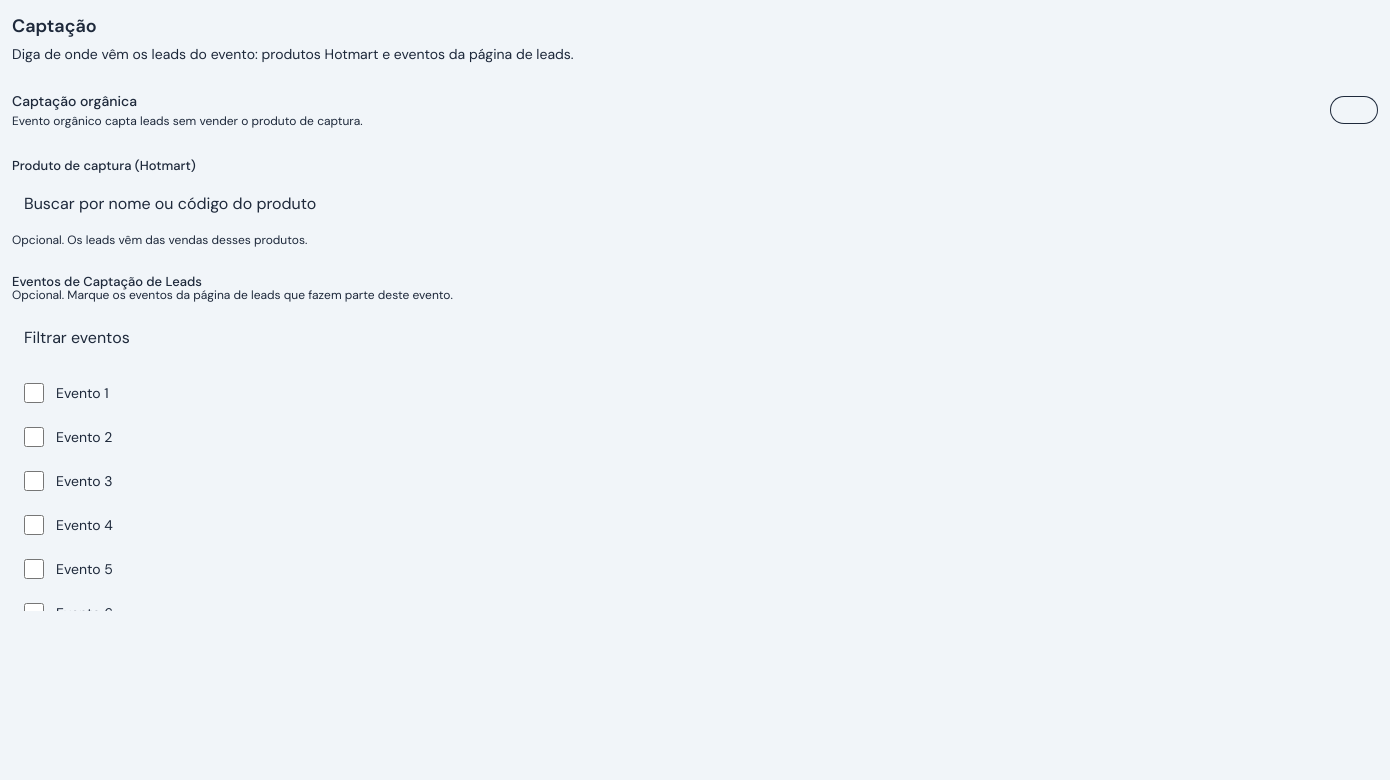
Test: EtapaCaptacao › filtra a lista quando há muitos eventos
Type "12" into the field labelled "Filtrar eventos".
click(695, 337); type("12")  # box x1=12 y1=315 x2=1378 y2=359
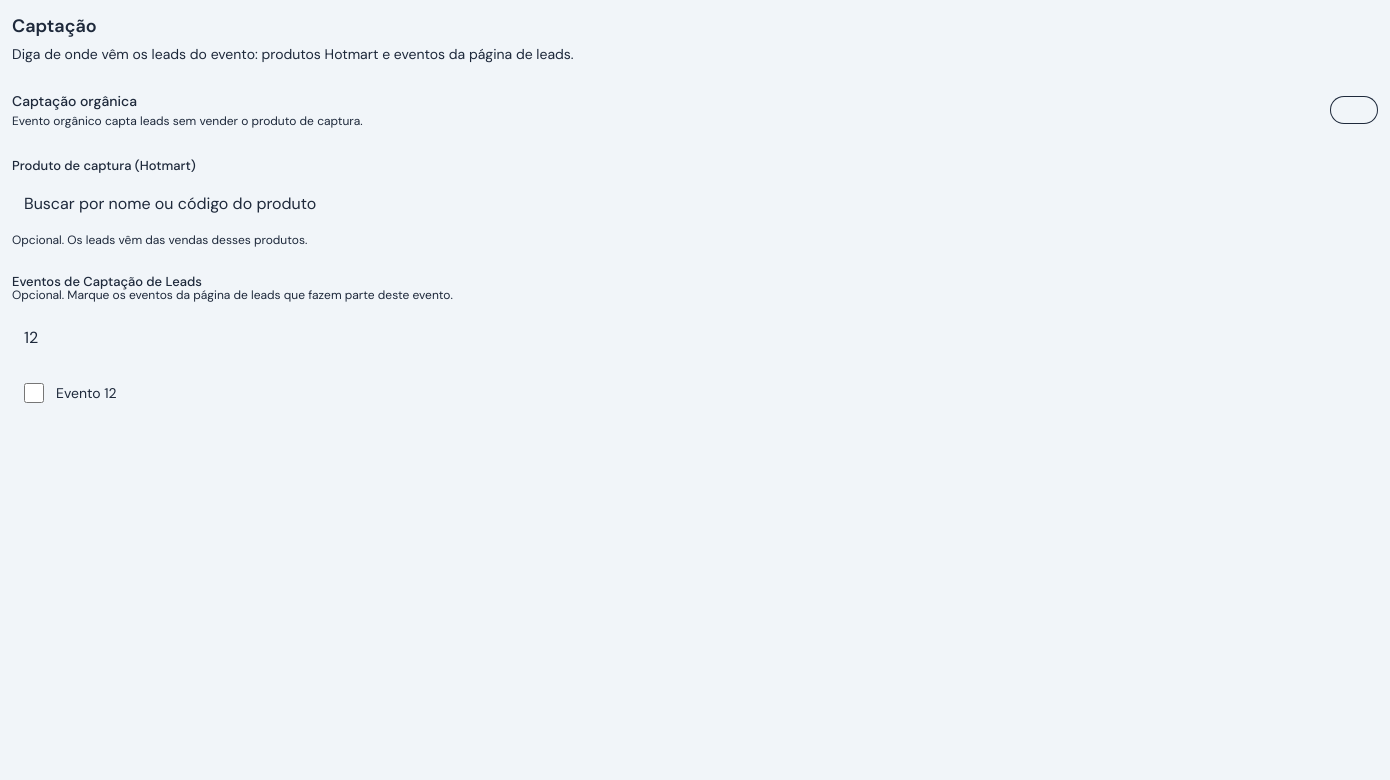
Expected: the number of checkboxes is 1, x1=24 y1=383 x2=44 y2=403
